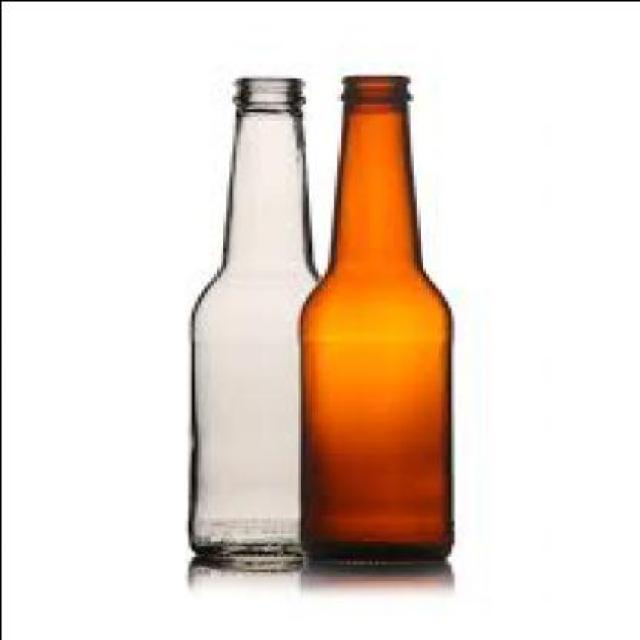GLASS: (298, 69, 453, 560), (190, 75, 321, 558)
